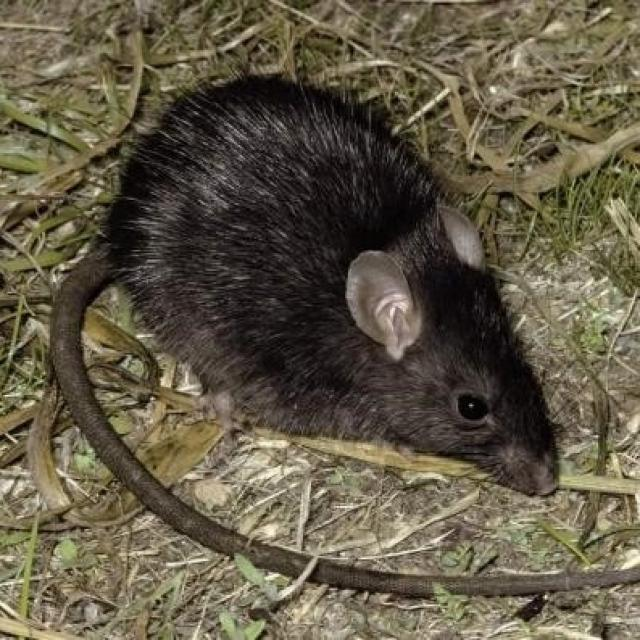rat: (41, 57, 569, 598)
